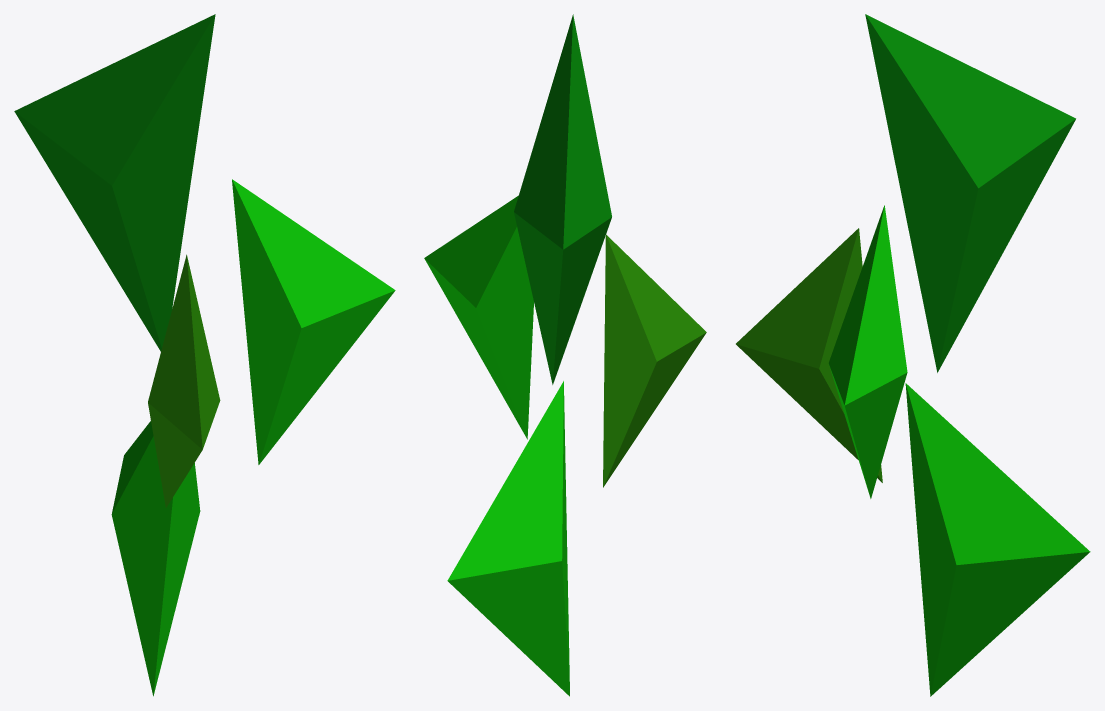
The model's file is fuel.fbx.
3 renders of one model, left to right at view 1: azimuth 30°, elevation 25°; view 2: azimuth 150°, elevation 25°; view 3: azimuth 270°, elevation 25°, orthographic. The views are drawn at different scales.
Visible parts, largest first — view 1: fuel; view 2: fuel; view 3: fuel.
Boxes of the visible parts, x1,y1,x2,y2 form: fuel: (14, 14, 395, 696); fuel: (424, 14, 706, 696); fuel: (736, 14, 1090, 696).
Size of the model in its own units: 38.86 by 97.99 by 45.23.
